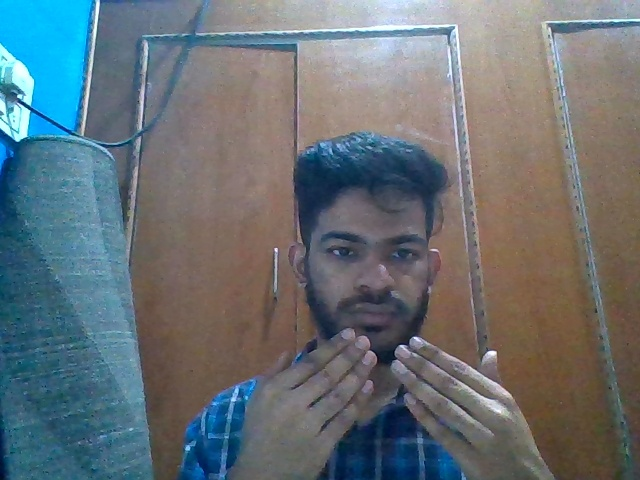thanks: (235, 327, 543, 477)
